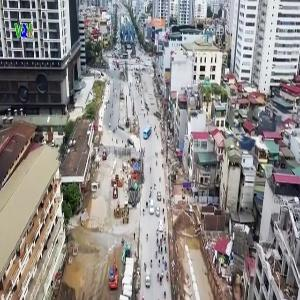drone: (210, 116, 274, 180)
